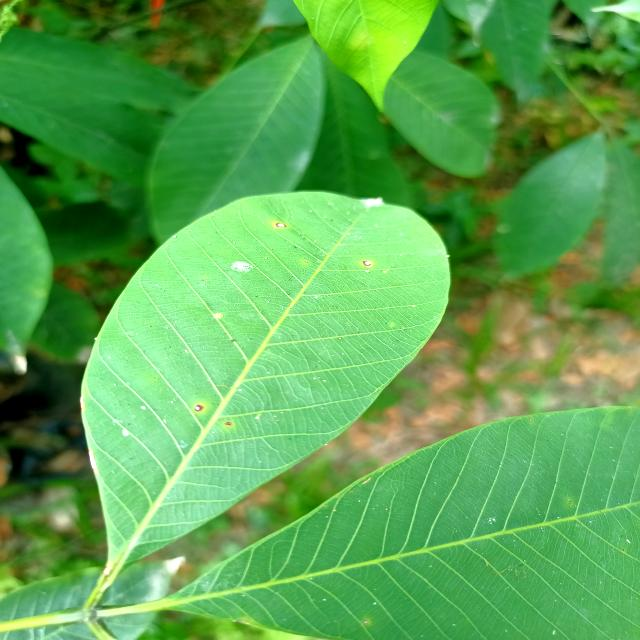Colletotrichum: (194, 404, 203, 412), (362, 261, 372, 266), (275, 223, 287, 227), (304, 261, 308, 263)
